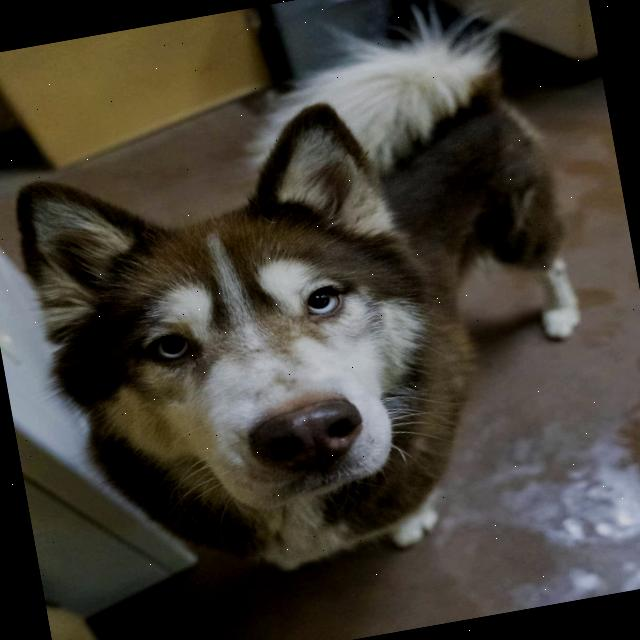siberian_husky_dog: (0, 83, 469, 557)
